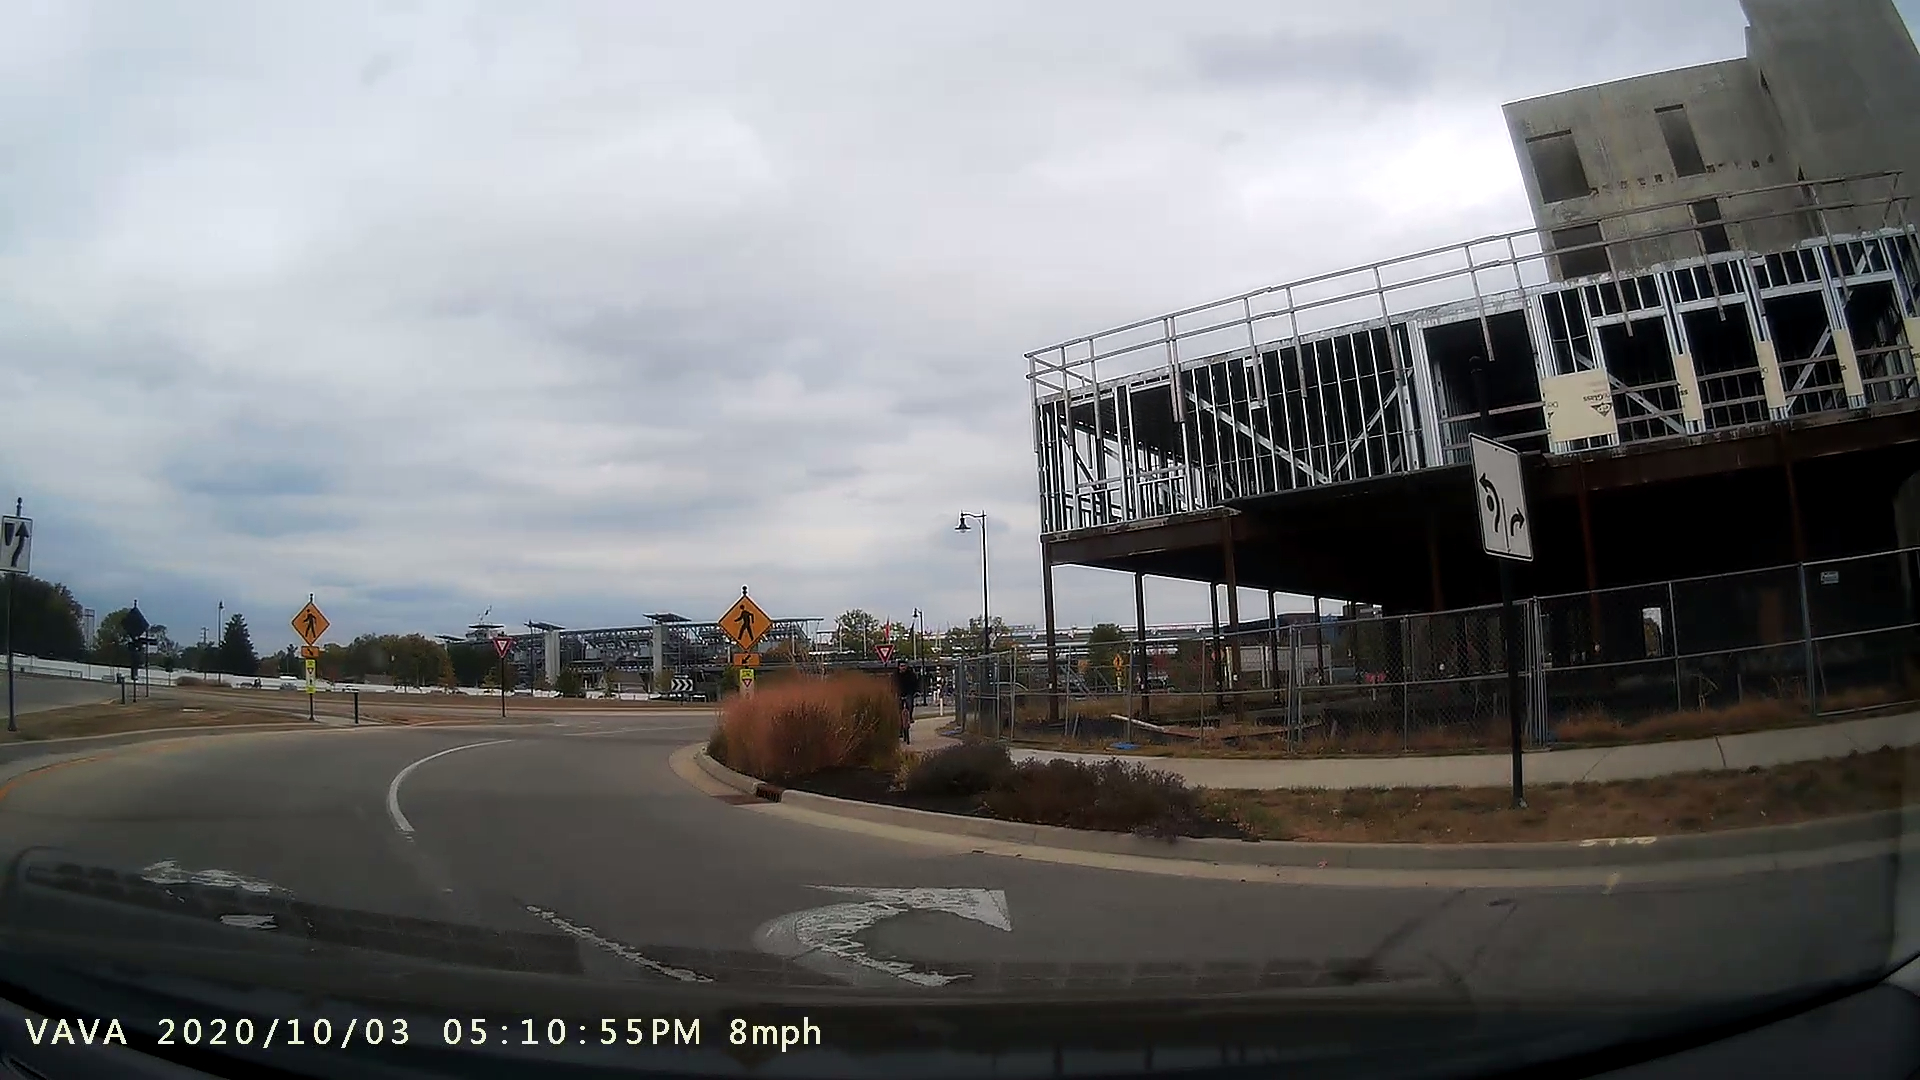right_turn: (752, 855, 1031, 984)
